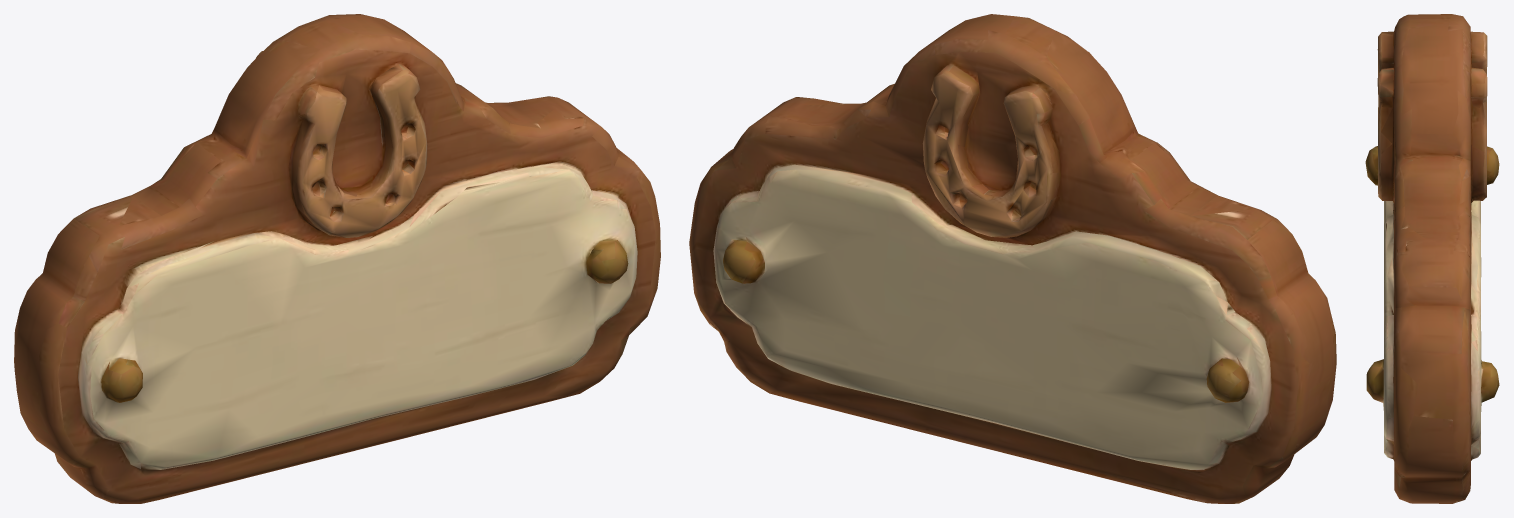
3 renders of one model, left to right at view 1: azimuth 30°, elevation 25°; view 2: azimuth 150°, elevation 25°; view 3: azimuth 270°, elevation 25°, orthographic. The views are drawn at different scales.
Parts seen in each view (by area): view 1: name-plate; view 2: name-plate; view 3: name-plate.
Part boxes in pixels (left/top/right/bottom): name-plate: left=14, top=14, right=660, bottom=503; name-plate: left=689, top=14, right=1336, bottom=503; name-plate: left=1365, top=14, right=1499, bottom=503.
Size of the model in its own units: 0.4997 by 0.3212 by 0.1025.
Materials: 1 (1 with a texture image).
